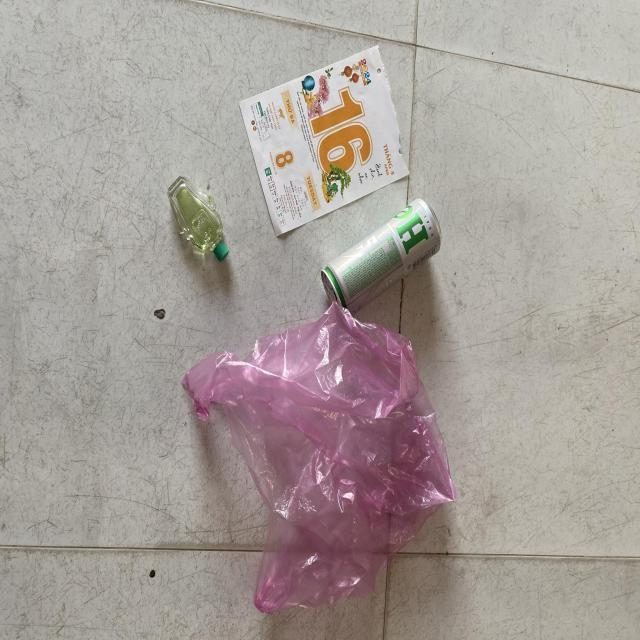clothes: (317, 193, 445, 316), (147, 130, 245, 277)
food: (236, 40, 427, 236)
metal: (166, 304, 480, 614)
